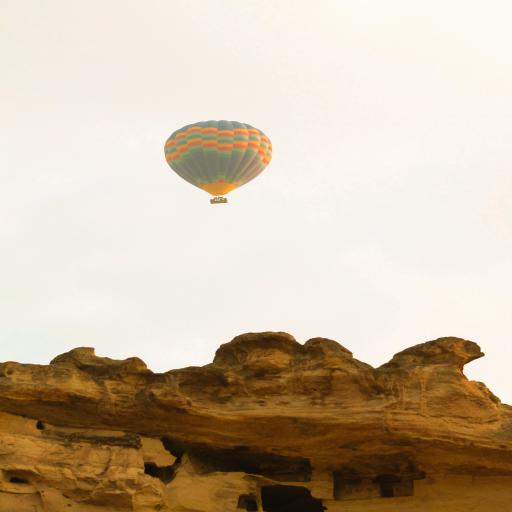hot air ballon: (160, 118, 274, 204)
